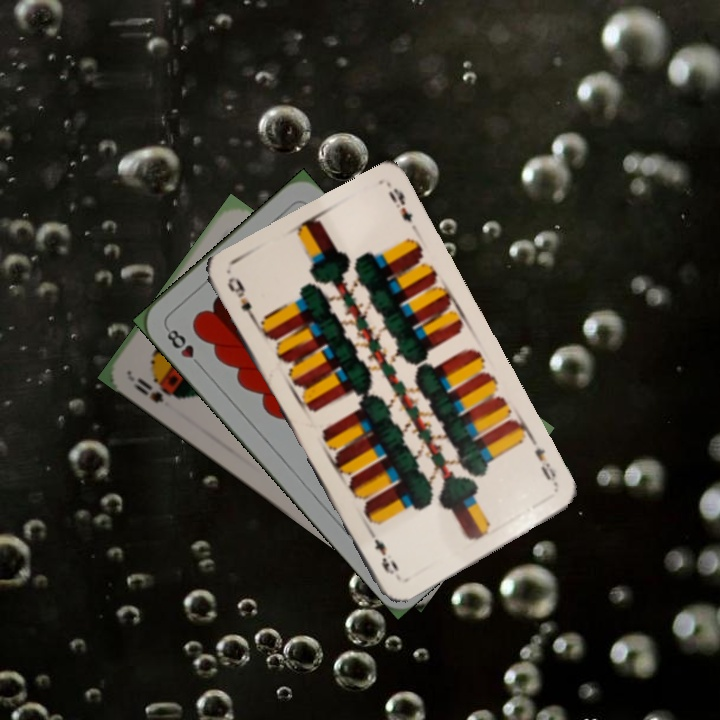E9: (223, 272, 260, 326), (530, 444, 561, 492)
H8: (162, 323, 206, 371)
SO: (129, 373, 182, 406)
